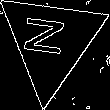N_E: (26, 19, 77, 65)
